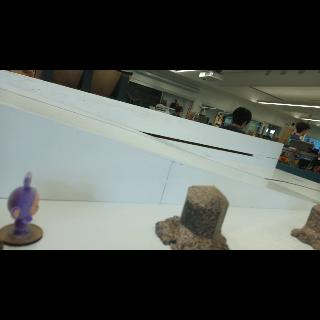teletubby: (8, 172, 39, 236)
